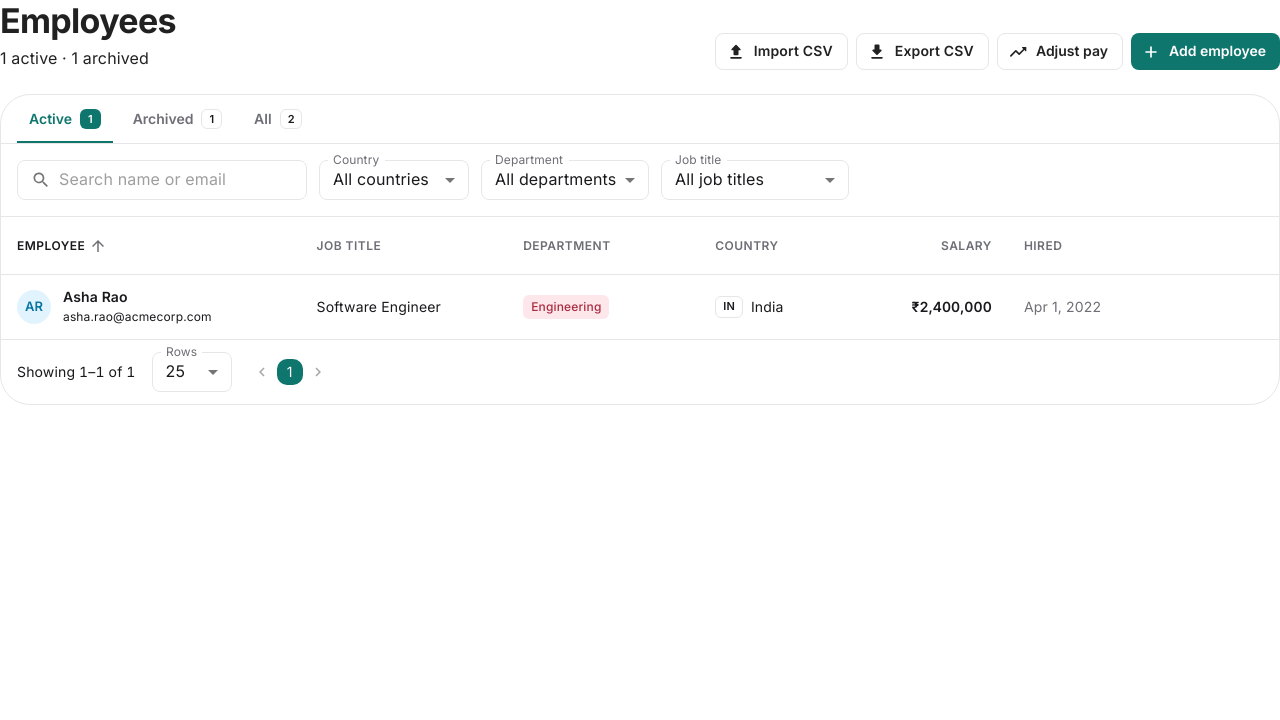
Test: EmployeesPage › does not offer a pay change when nobody matches
The width and height of the screenshot is (1280, 720).
Click the button "Adjust pay" at [1060, 52], box [997, 34, 1123, 70]
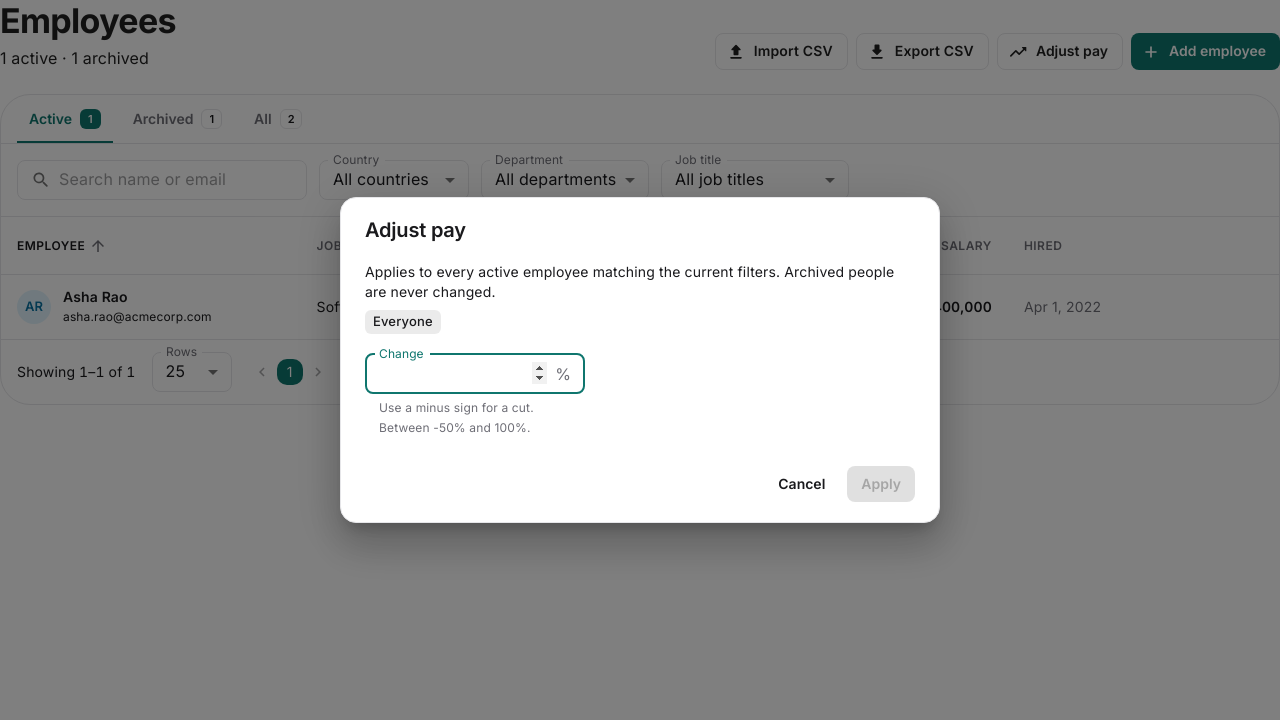
Type "5" into the number field labelled "Change" at [456, 374], box [365, 354, 547, 394]
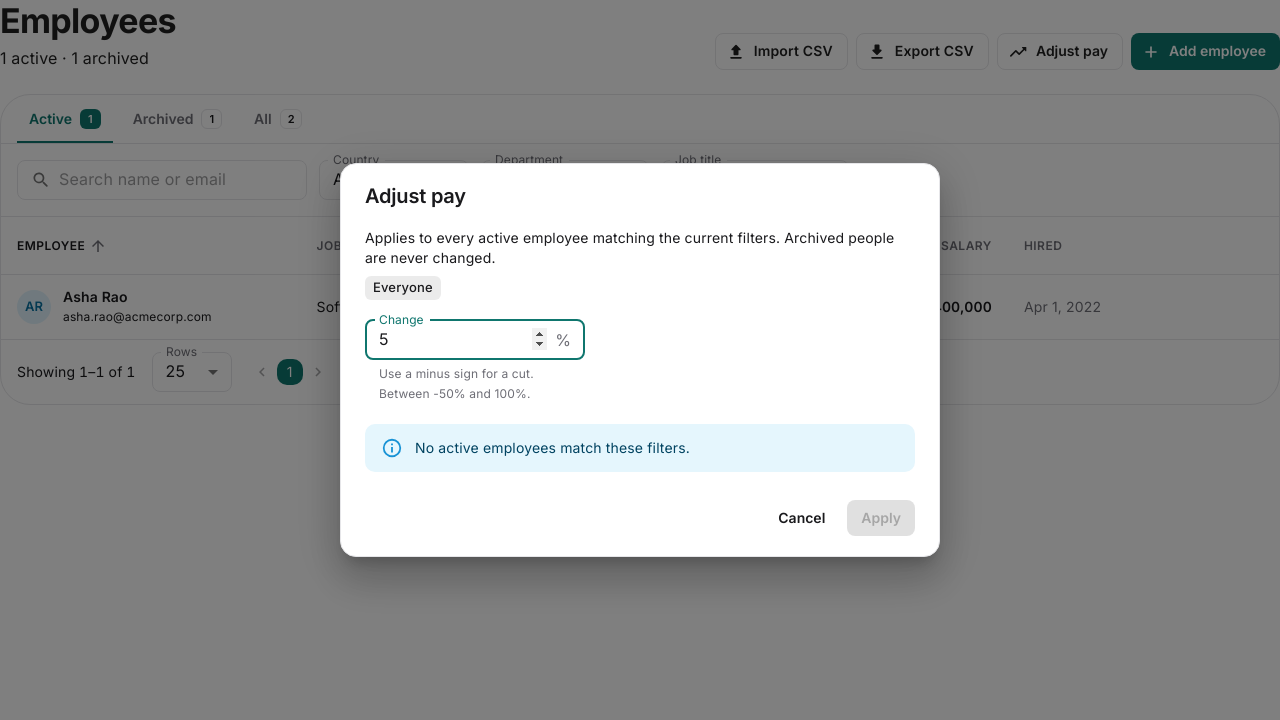
Expected: the button "Apply" is disabled, [847, 500, 915, 536]
Expected: the text "No active employees match these filters." is shown, [415, 439, 690, 456]
